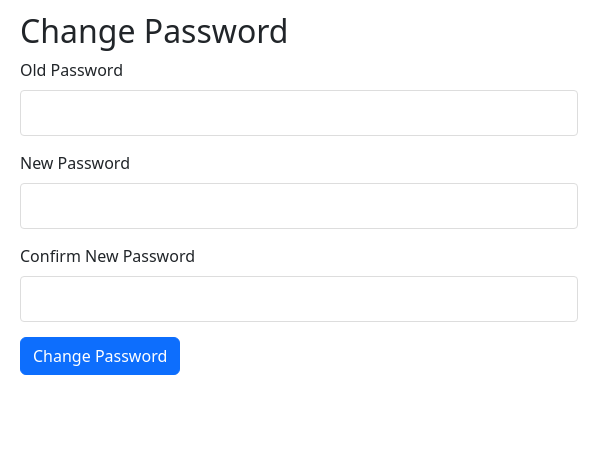
Test: <ChangePassword /> › displays an error message when old password is not provided
Click the button "Change Password" at (100, 356), box [20,337,180,375]
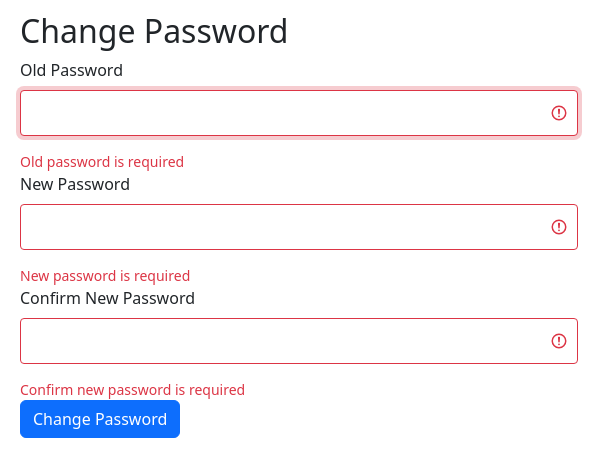
Result: the text "Old password is required" is shown at [20,152,184,171]
